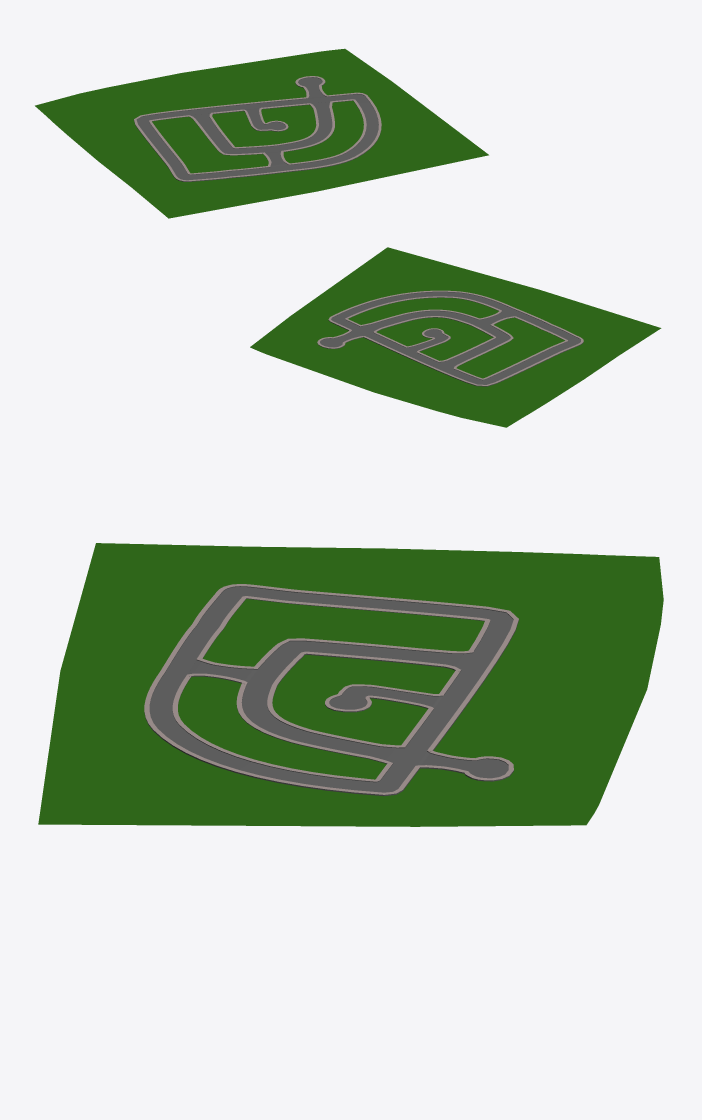
Rendered from streets seperated.fbx.
3 renders of one model, top to bottom at view 1: azimuth 30°, elevation 25°; view 2: azimuth 150°, elevation 25°; view 3: azimuth 270°, elevation 25°, orthographic. The views are drawn at different scales.
Visible parts, largest first — view 1: Plane.004, BézierCurve.005, Plane.002, Plane.001, BézierCurve.009, Plane.003, BézierCurve.001, BézierCurve.006, BézierCurve.004, BézierCurve.003; view 2: Plane.004, BézierCurve.005, Plane.002, Plane.001, BézierCurve.009, Plane.003, BézierCurve.001, BézierCurve.006, BézierCurve.004, BézierCurve.003; view 3: Plane.004, BézierCurve.005, Plane.002, Plane.001, BézierCurve.009, Plane.003, BézierCurve.001, BézierCurve.006, BézierCurve.004, BézierCurve.003.
Part boxes in pixels (x1=…): Plane.004: x1=35, y1=48, x2=488, y2=218; BézierCurve.005: x1=136, y1=94, x2=378, y2=180; Plane.002: x1=152, y1=116, x2=268, y2=173; Plane.001: x1=212, y1=105, x2=316, y2=146; BézierCurve.009: x1=133, y1=92, x2=381, y2=181; Plane.003: x1=283, y1=100, x2=363, y2=163; BézierCurve.001: x1=190, y1=101, x2=332, y2=153; BézierCurve.006: x1=188, y1=101, x2=334, y2=155; BézierCurve.004: x1=245, y1=108, x2=285, y2=130; BézierCurve.003: x1=298, y1=77, x2=326, y2=98; Plane.004: x1=250, y1=247, x2=661, y2=427; BézierCurve.005: x1=331, y1=292, x2=580, y2=384; Plane.002: x1=456, y1=317, x2=564, y2=378; Plane.001: x1=377, y1=317, x2=492, y2=360; BézierCurve.009: x1=328, y1=290, x2=583, y2=386; Plane.003: x1=348, y1=297, x2=498, y2=324; BézierCurve.001: x1=361, y1=311, x2=510, y2=368; BézierCurve.006: x1=359, y1=309, x2=513, y2=369; BézierCurve.004: x1=406, y1=329, x2=448, y2=352; BézierCurve.003: x1=320, y1=330, x2=363, y2=347; Plane.004: x1=38, y1=543, x2=663, y2=826; BézierCurve.005: x1=149, y1=587, x2=513, y2=792; Plane.002: x1=203, y1=599, x2=484, y2=666; Plane.001: x1=272, y1=654, x2=454, y2=745; BézierCurve.009: x1=144, y1=584, x2=518, y2=796; Plane.003: x1=178, y1=676, x2=386, y2=779; BézierCurve.001: x1=242, y1=641, x2=472, y2=762; BézierCurve.006: x1=236, y1=638, x2=473, y2=764; BézierCurve.004: x1=329, y1=686, x2=443, y2=709; BézierCurve.003: x1=416, y1=751, x2=508, y2=778.
Size of the model in its own units: 208048 by 1592 by 86013.
